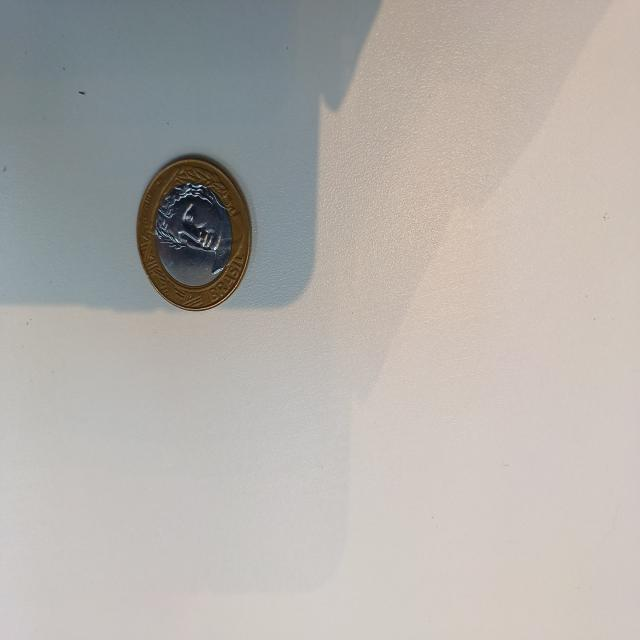1 real: (133, 150, 254, 313)
